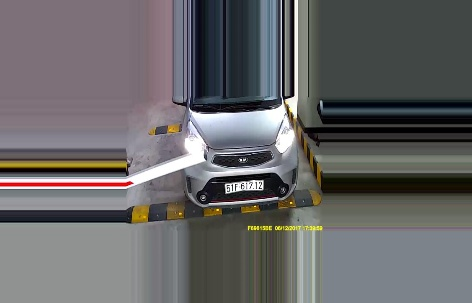plate: (225, 178, 262, 196)
